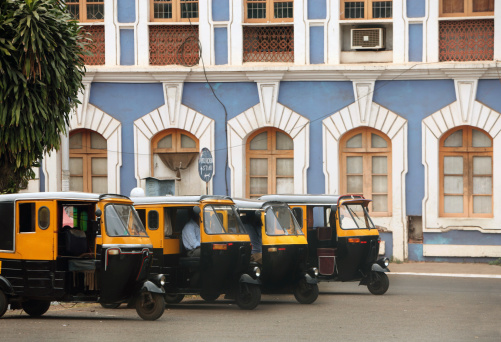threewheel: (1, 192, 166, 321), (130, 196, 262, 310), (283, 195, 390, 296), (233, 198, 320, 305)
